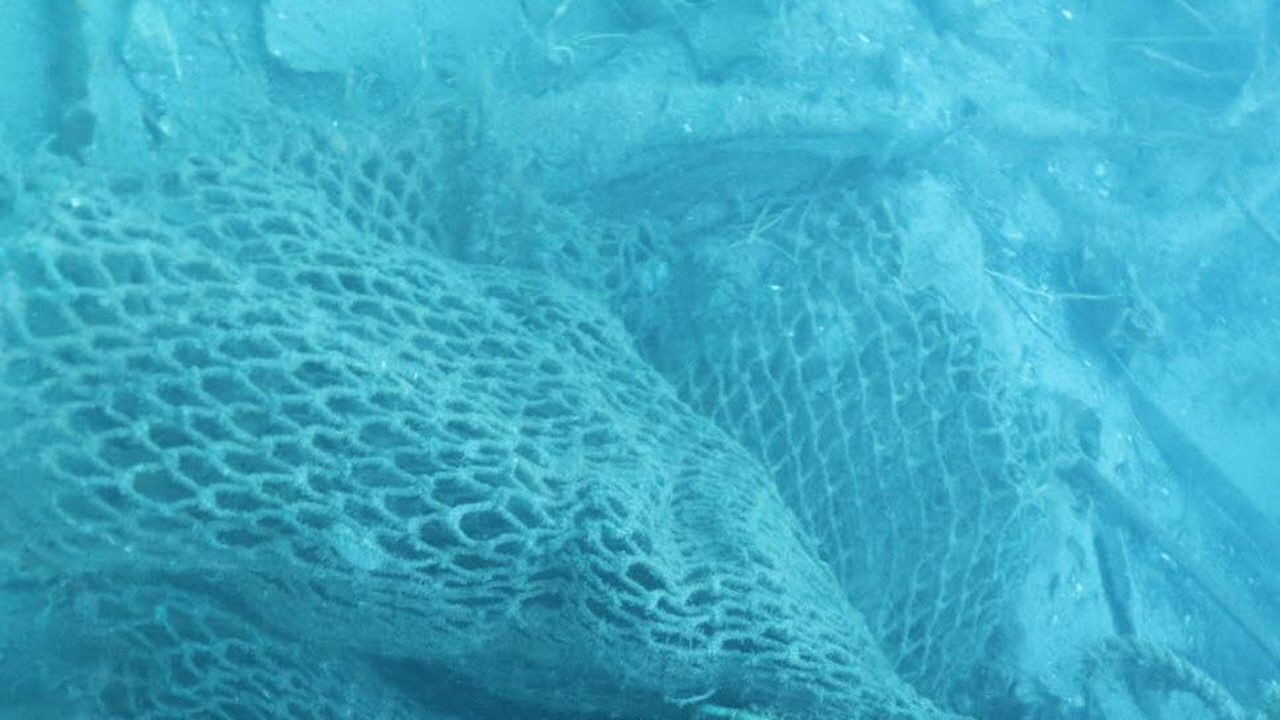fish net: (0, 128, 1054, 720)
rope: (1114, 637, 1245, 720)
